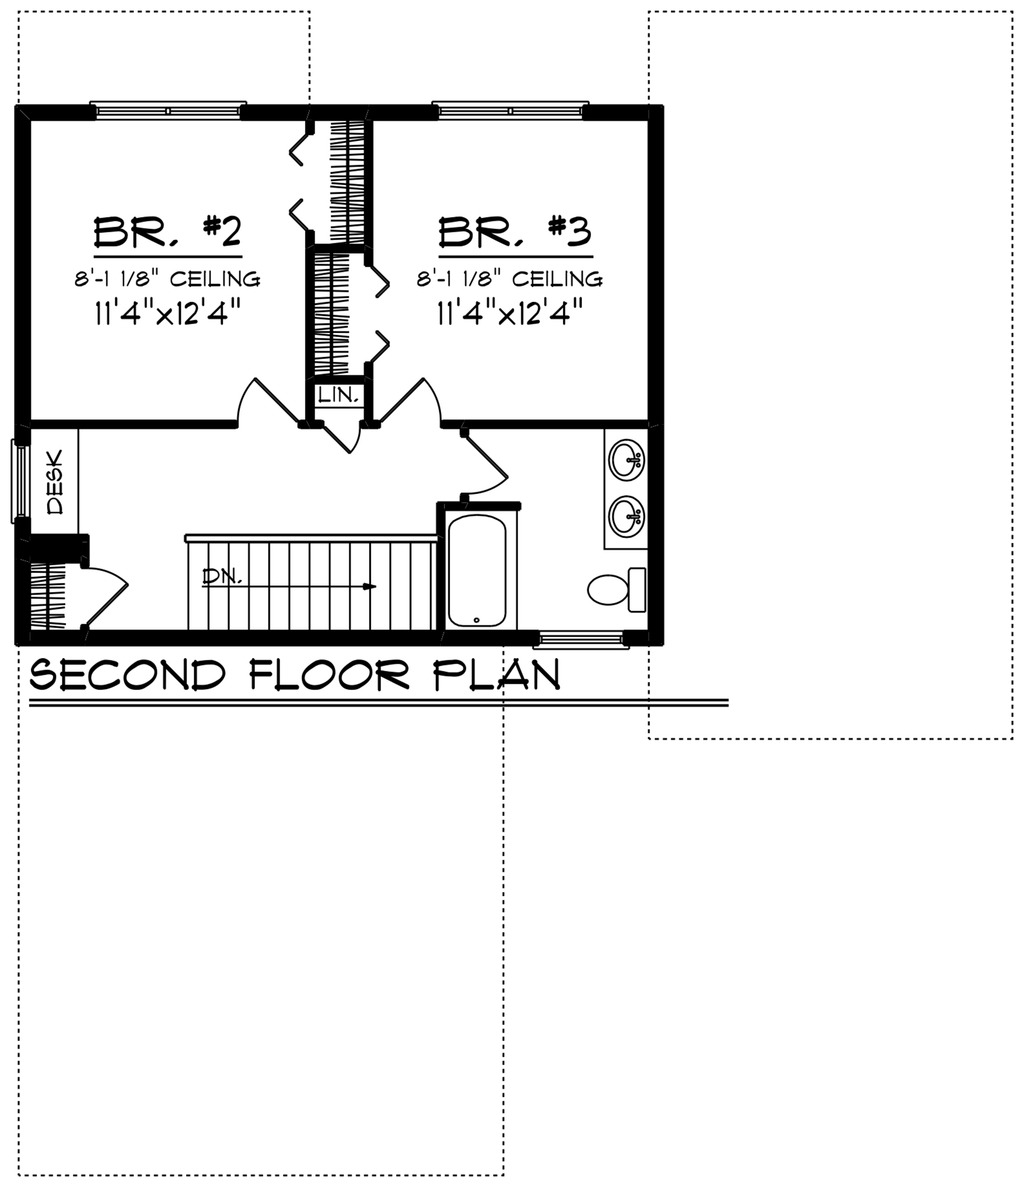door: (444, 421, 522, 499), (311, 405, 377, 468), (72, 562, 133, 629), (370, 368, 440, 427), (233, 381, 303, 434)
large_sink: (568, 553, 676, 616)
small_sink: (596, 427, 668, 557)
stairs: (172, 520, 437, 631)
tub: (433, 503, 509, 633)
window: (79, 84, 252, 133), (424, 86, 600, 133), (9, 449, 46, 534), (529, 623, 629, 651)
